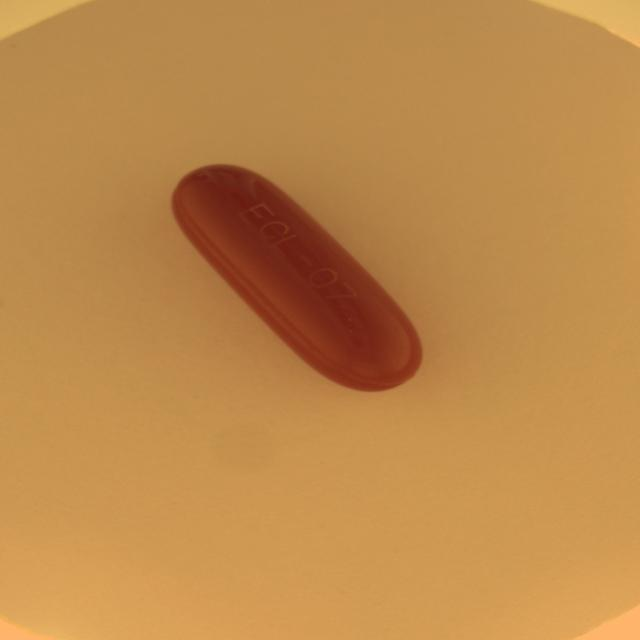Oval: (169, 160, 426, 397)
